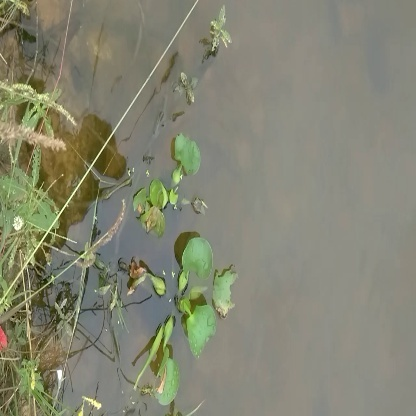leaf: (173, 231, 246, 352)
